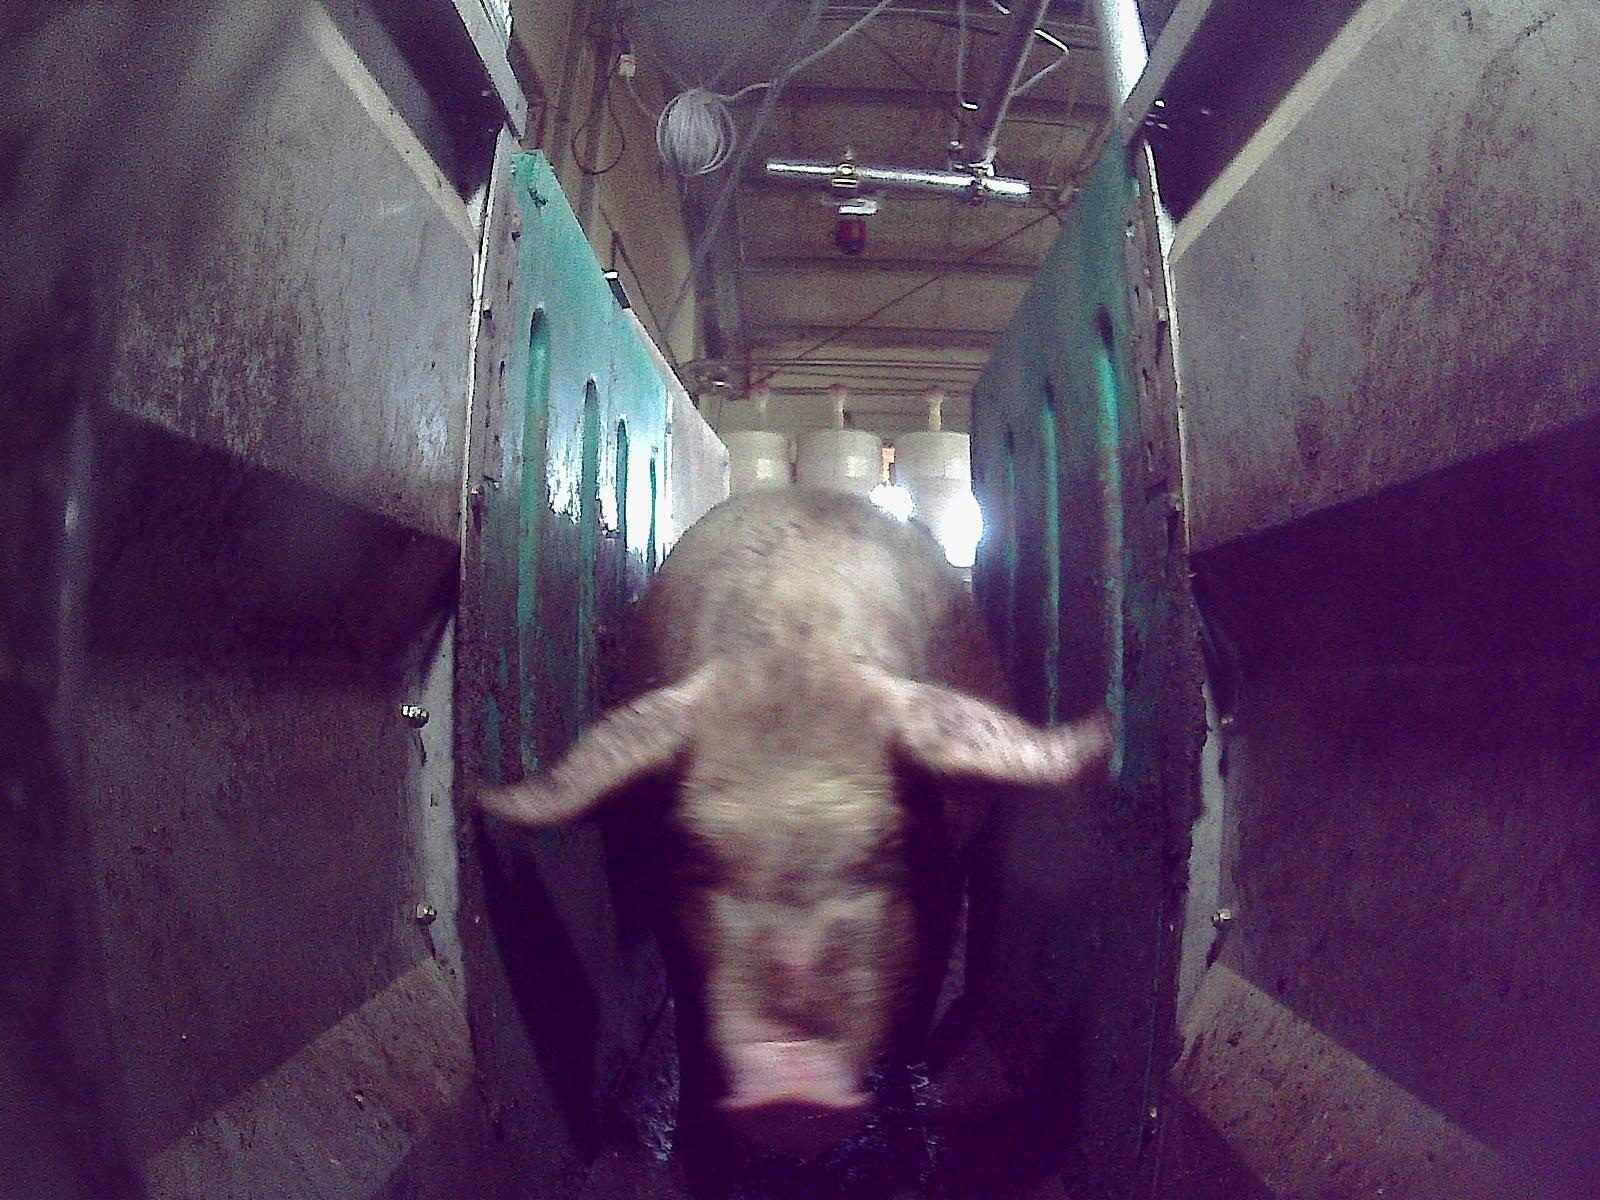Face: (659, 641, 926, 1155)
